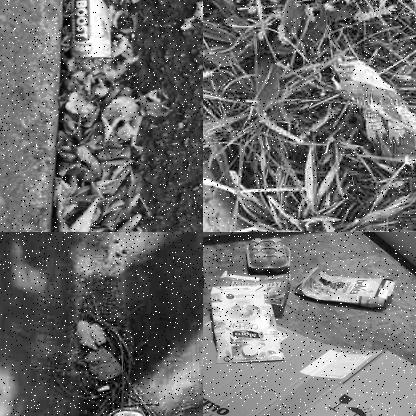cardboard: (203, 312, 415, 415), (302, 270, 392, 308), (219, 272, 290, 312), (246, 236, 294, 270)
metal: (333, 55, 415, 168), (66, 0, 111, 67)
plastic: (209, 286, 286, 362)
